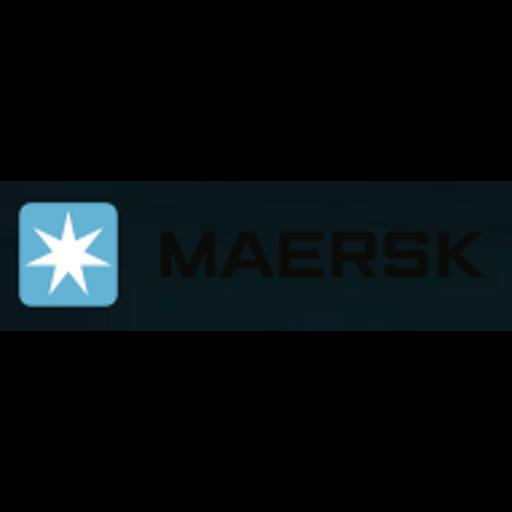Maersk: (0, 181, 512, 331)
